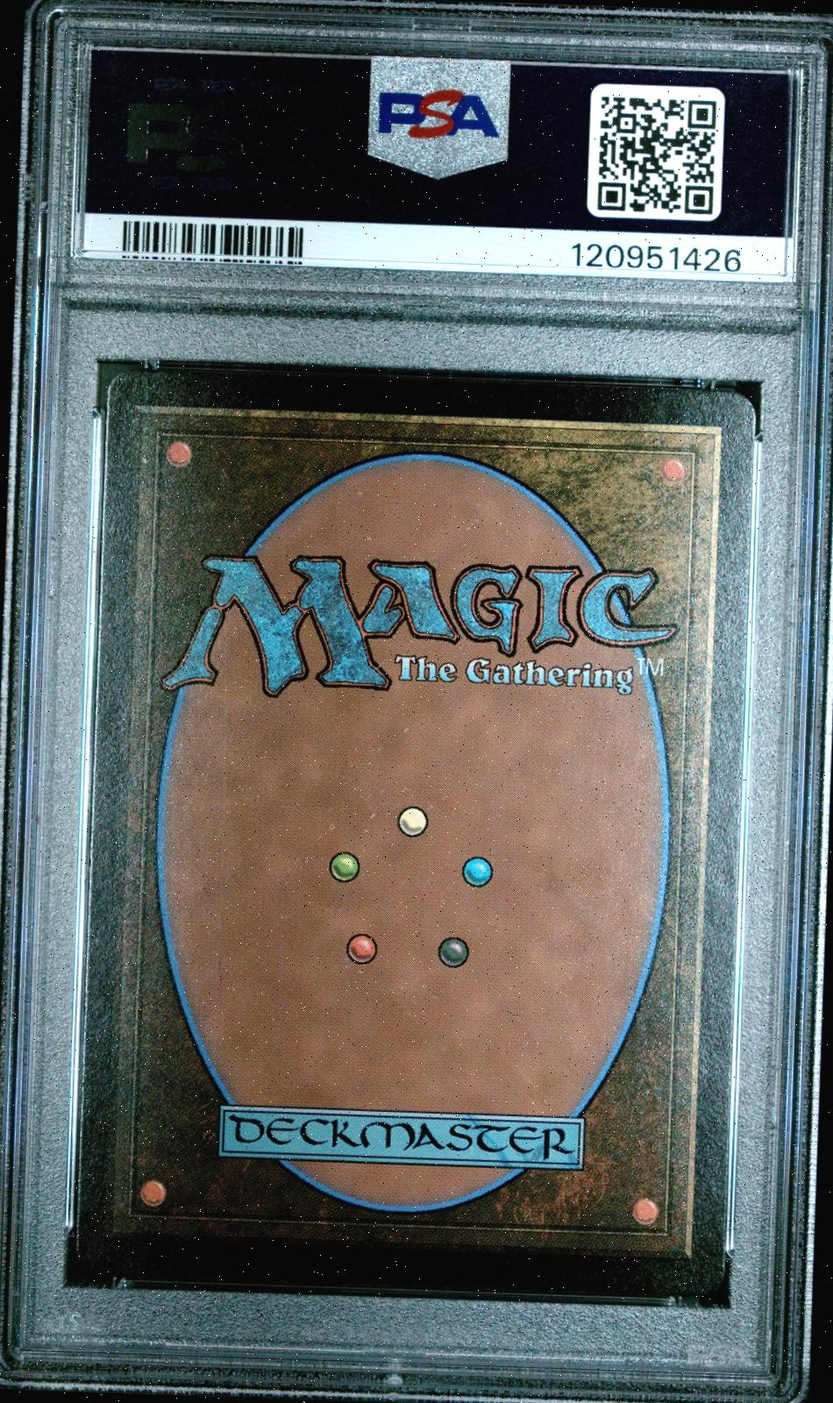card-2UtV: (75, 367, 756, 1295)
